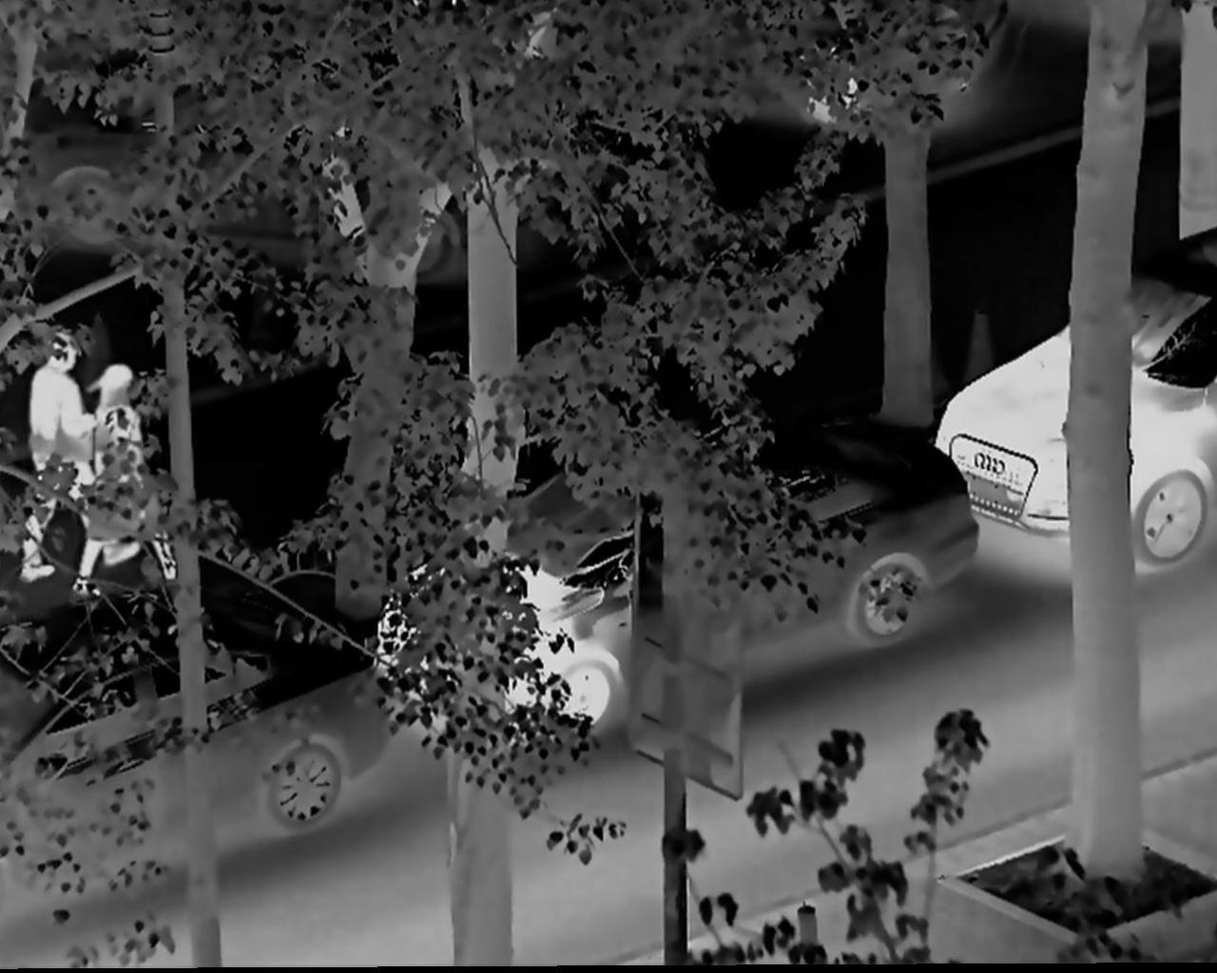person: (82, 359, 172, 590), (22, 311, 91, 590)
